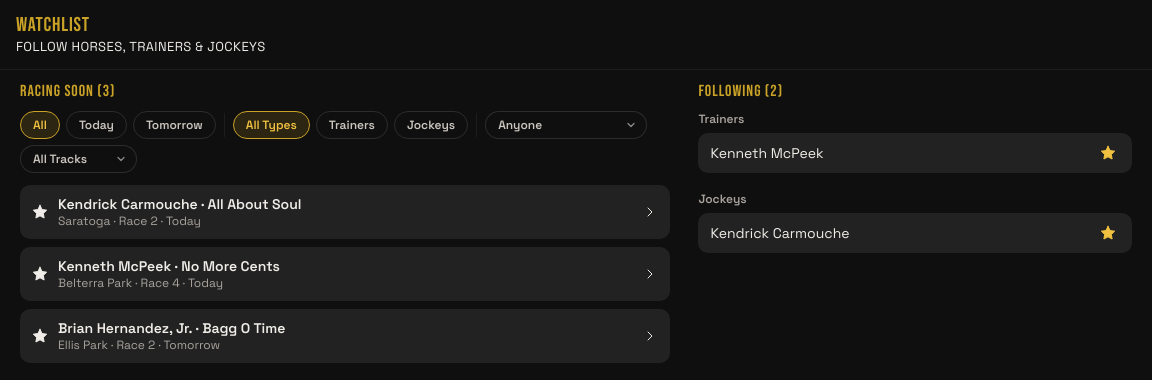
Test: WatchlistPage racing-soon filters › filters to a single day
The width and height of the screenshot is (1152, 380).
Check: the text "Kendrick Carmouche · All About Soul" is shown, box [58,195,302,213]
Click the button "Tomorrow". click: (174, 125)
box: [133,111,216,139]
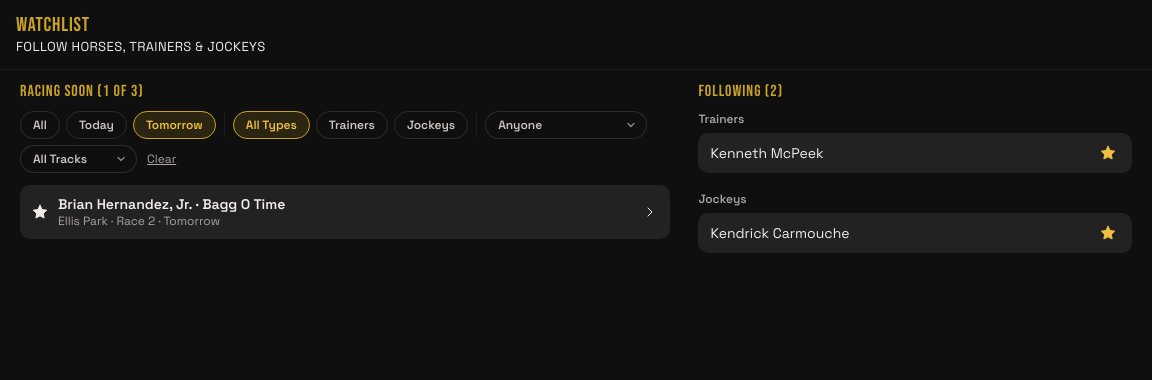
Check: the text "Brian Hernandez, Jr. · Bagg O Time" is shown, box [58,195,285,213]
Check: the text "All About Soul" is gone
Check: the text "No More Cents" is gone
